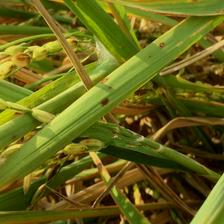0 BrownSpot: (95, 94, 112, 108), (150, 41, 172, 50)
